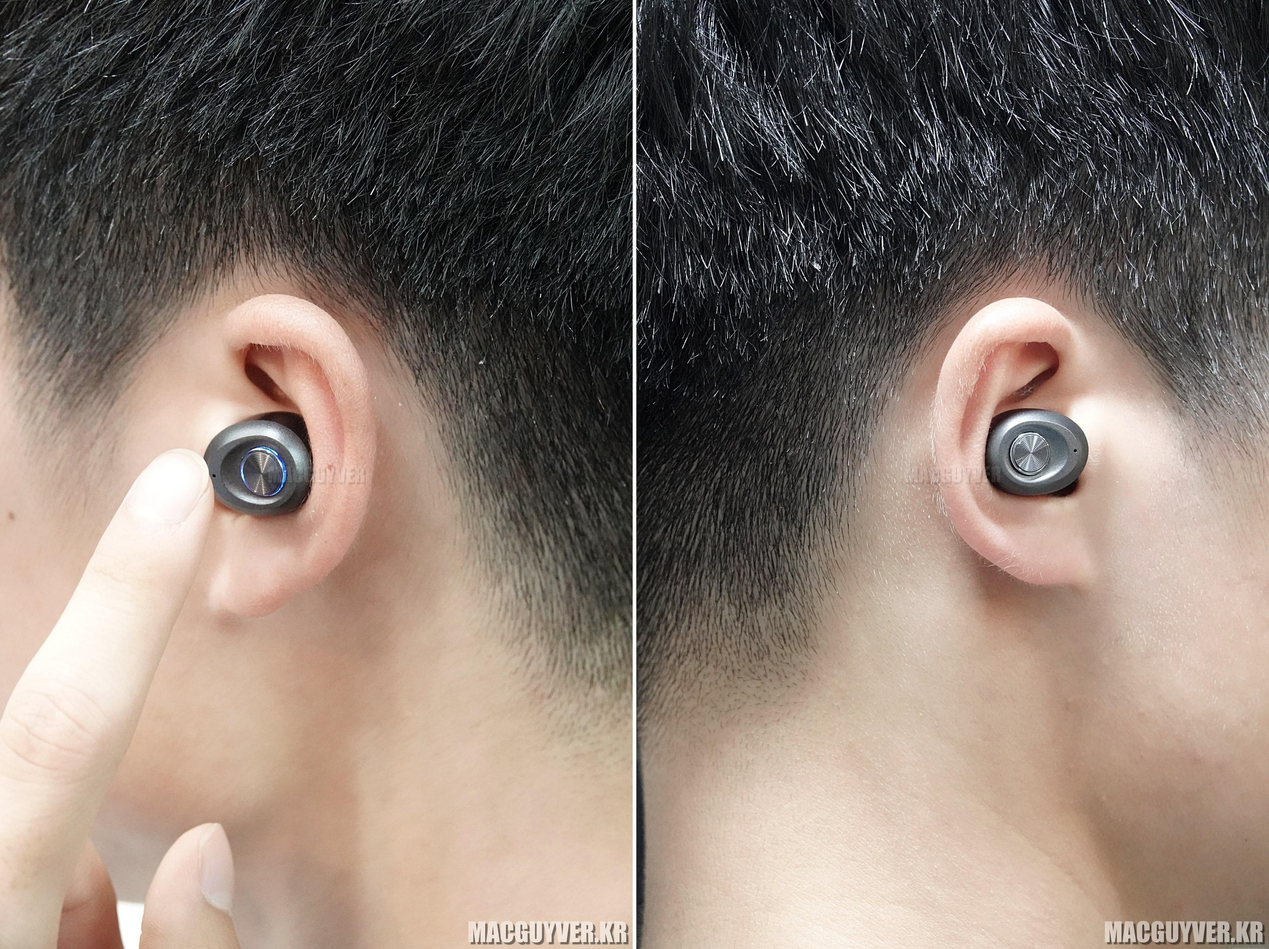earphone: (198, 405, 333, 531), (974, 409, 1100, 506)
